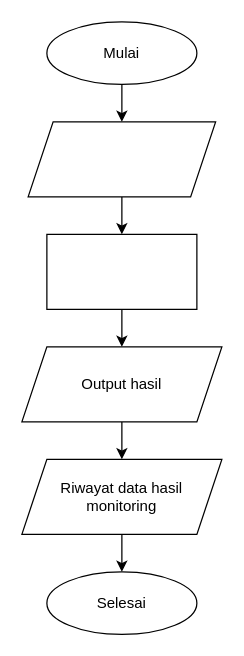
Image size: 244x656. Some labels were removed from this diagram. Each missing label, with the box of its shape:
Dashboard: (27, 121, 216, 197)
Menu Monitoring: (46, 233, 197, 309)
